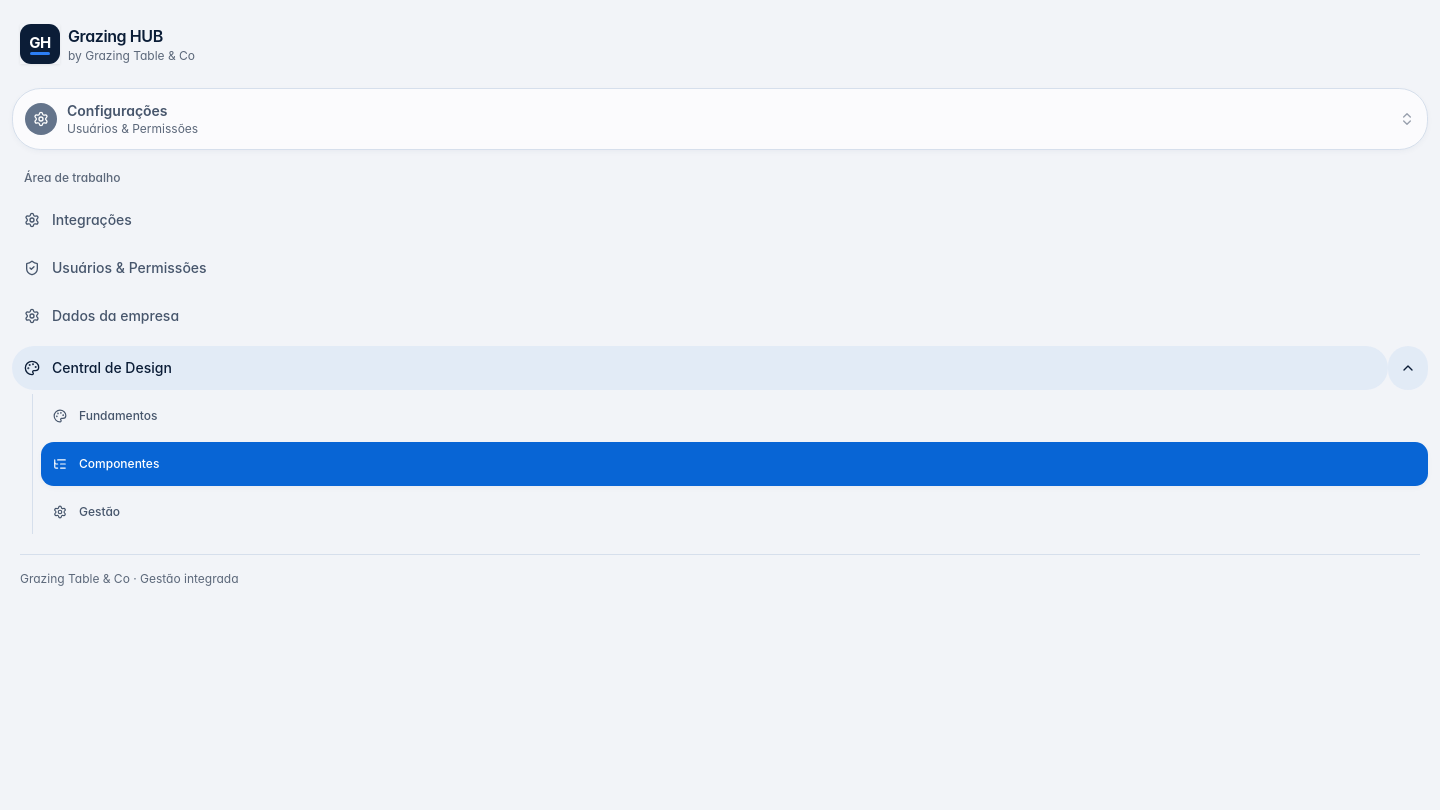
Scenario: expõe os grupos da Central de Design para administradores e permite recolhê-los
The image size is (1440, 810).
Click the button named "Recolher Central de Design". click: (1408,368)
box: [1388,346,1428,390]
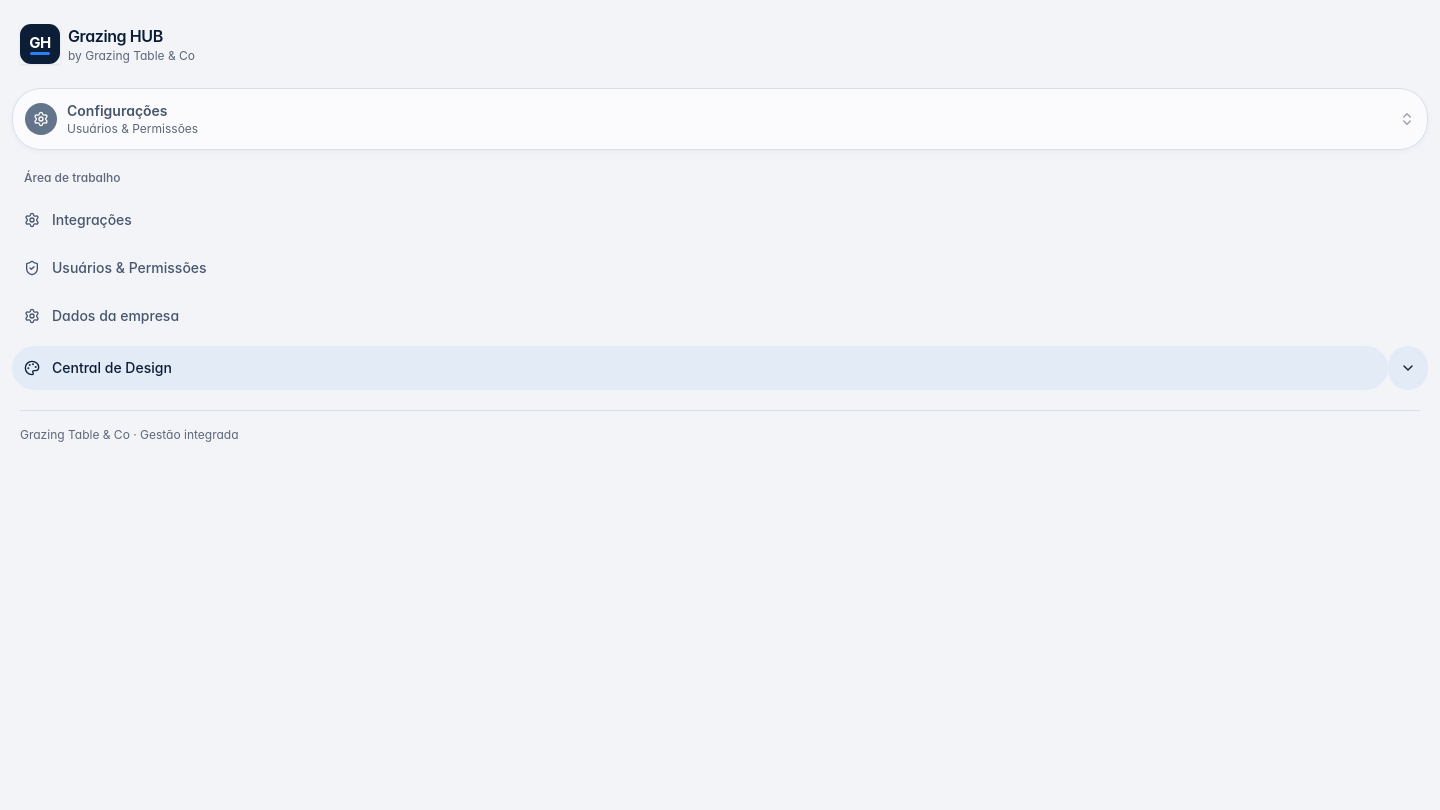
Now the button named "Expandir Central de Design" is collapsed, box [1388,346,1428,390]
Now the link "Fundamentos" is gone
